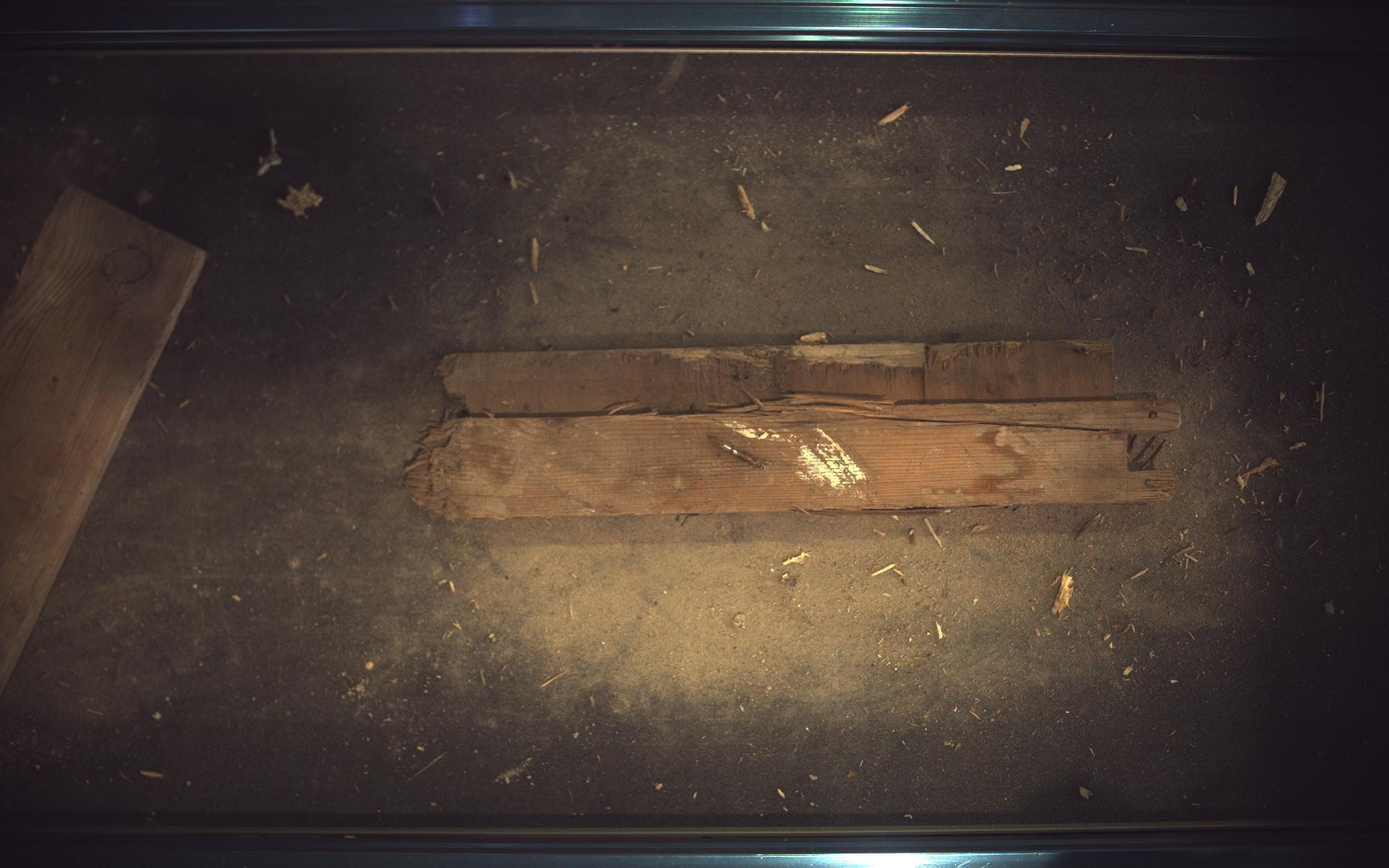wood: (407, 340, 1183, 519), (1, 186, 205, 692)
